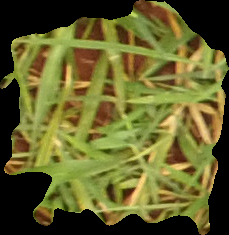grass: (1, 1, 228, 233)
